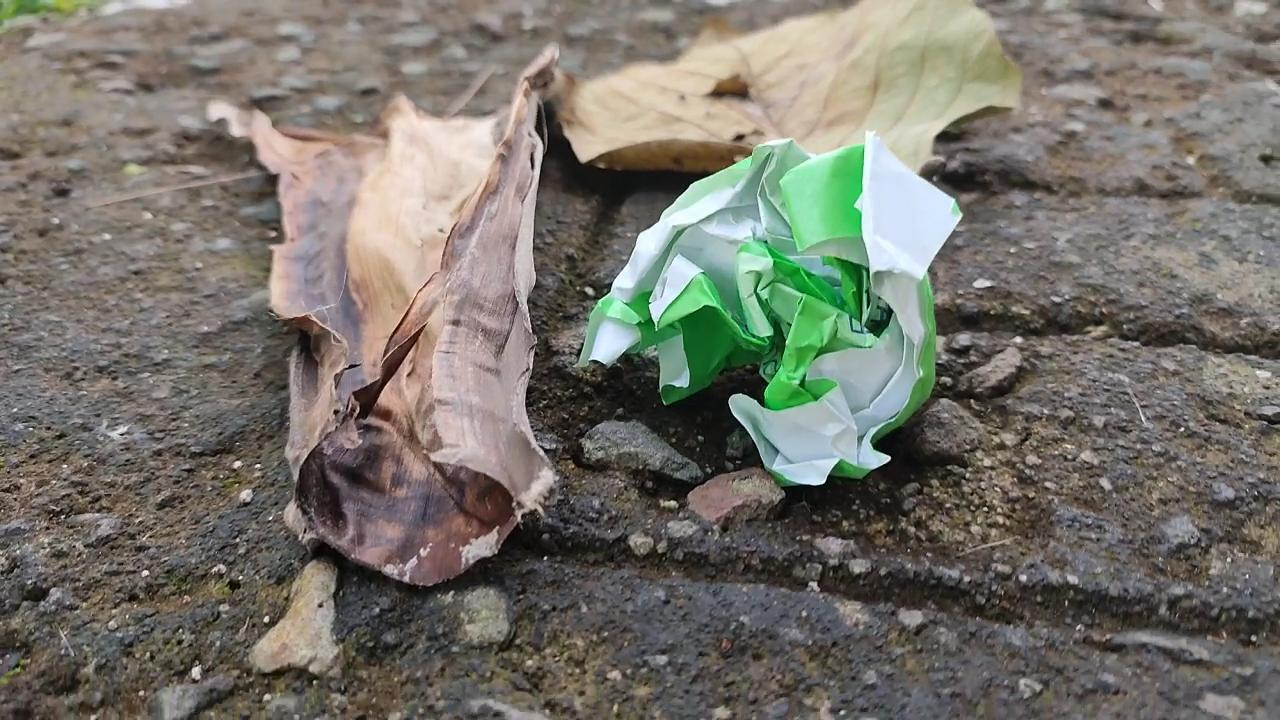Paper: (573, 112, 963, 506)
